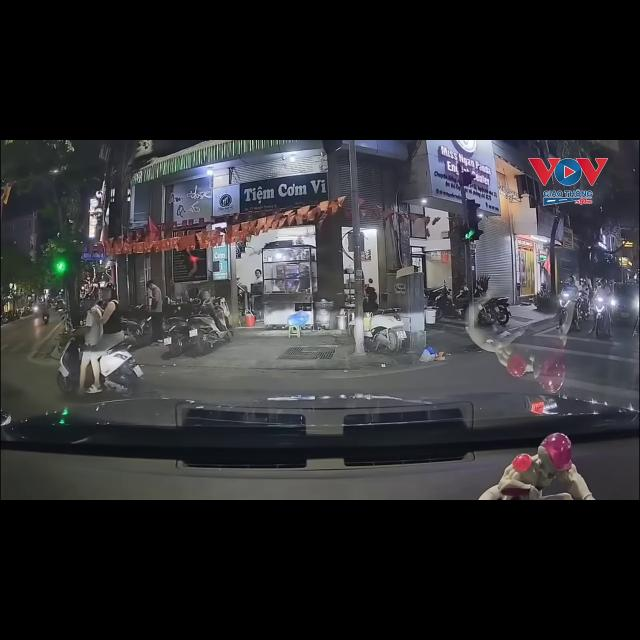motorcycle: (164, 297, 231, 355), (99, 341, 142, 396), (364, 308, 406, 352), (433, 286, 467, 319), (121, 305, 151, 338), (477, 297, 510, 325), (559, 291, 580, 327), (121, 316, 151, 338), (594, 297, 609, 337), (424, 284, 446, 306), (578, 291, 590, 321), (42, 313, 50, 325)
